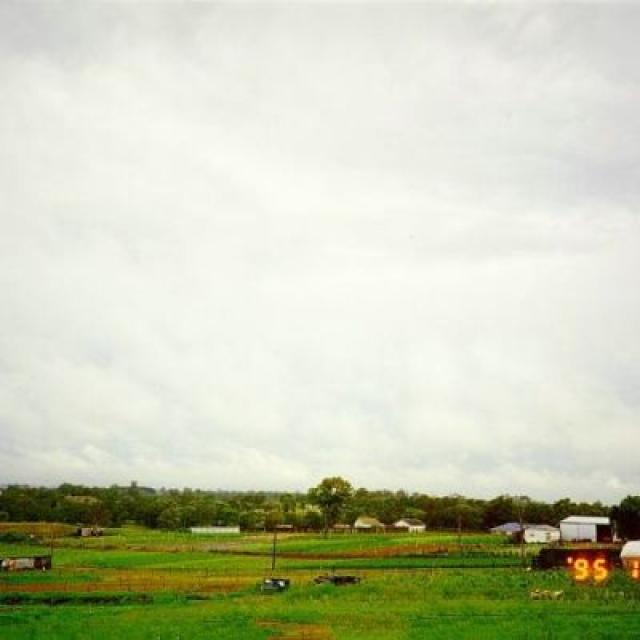St: (9, 17, 640, 372)
